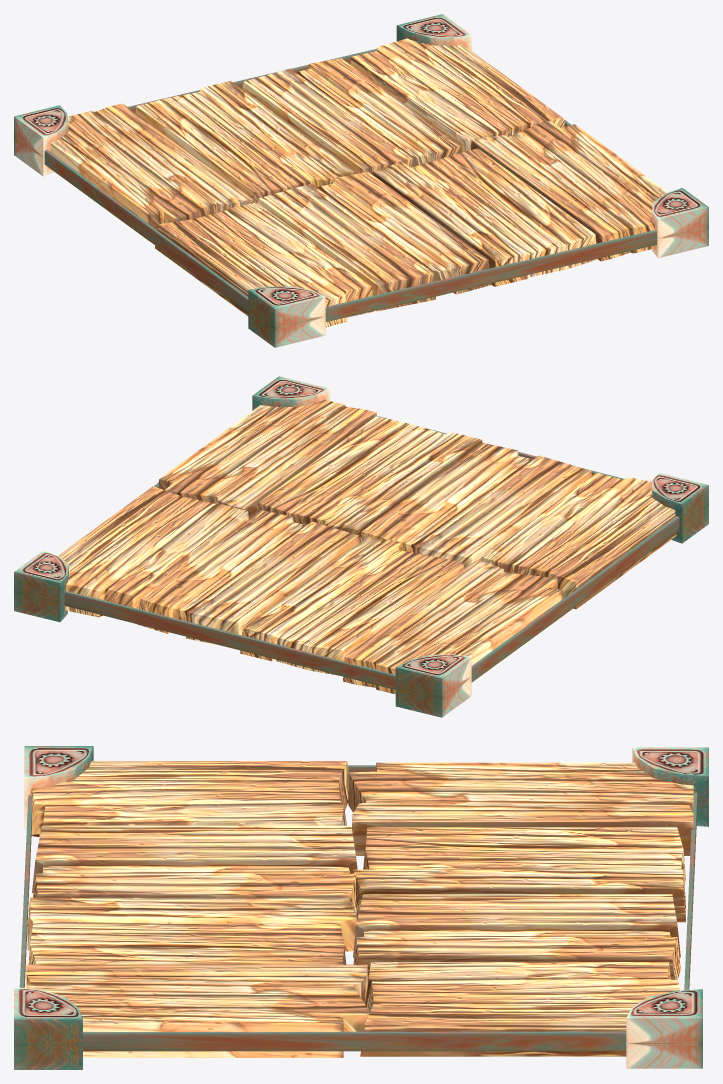
3 renders of one model, top to bottom at view 1: azimuth 30°, elevation 25°; view 2: azimuth 150°, elevation 25°; view 3: azimuth 270°, elevation 25°, orthographic. The views are drawn at different scales.
Parts seen in each view (by area): view 1: LP.D.008; view 2: LP.D.008; view 3: LP.D.008.
Boxes of the visible parts, x1,y1,x2,y2 form: LP.D.008: (14, 14, 708, 347); LP.D.008: (14, 376, 708, 717); LP.D.008: (14, 746, 708, 1069).
Size of what is drawn, in the model's own units: 4.07 by 0.3499 by 4.37.
1 material, 1 textured.
